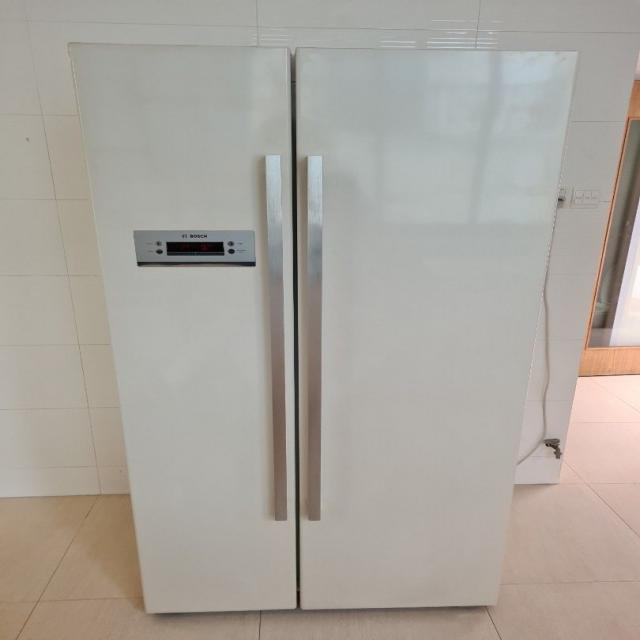refrigerator: (68, 42, 577, 611)
